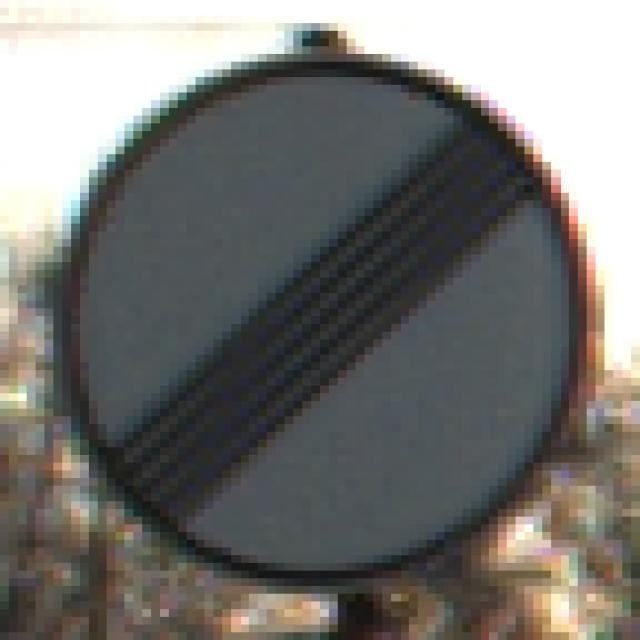restriction ends: (44, 57, 594, 583)
